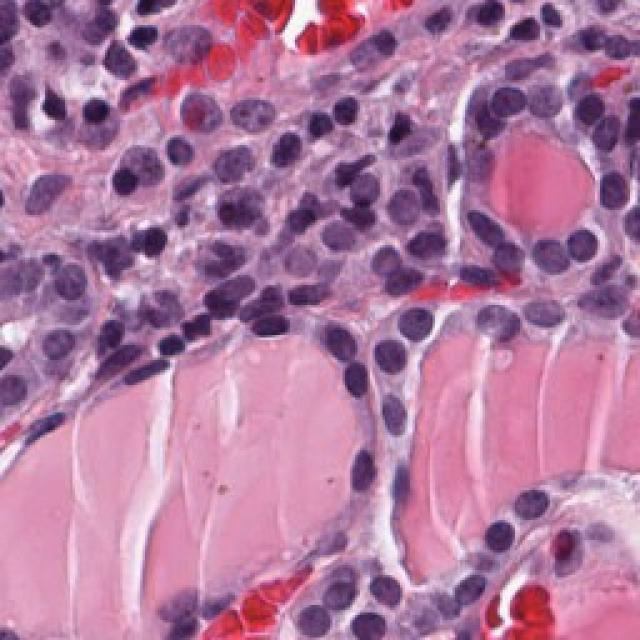normal: (260, 581, 376, 640), (545, 191, 615, 270), (116, 135, 190, 206), (433, 564, 515, 627), (575, 150, 640, 224), (308, 305, 382, 365), (524, 216, 578, 298), (349, 554, 419, 615), (512, 474, 578, 538), (34, 241, 94, 311), (352, 216, 410, 282), (380, 166, 436, 234), (364, 381, 424, 442), (24, 300, 74, 368), (472, 506, 528, 566), (514, 278, 566, 338), (345, 447, 398, 500), (337, 354, 381, 411), (395, 285, 435, 347), (493, 72, 532, 125)
